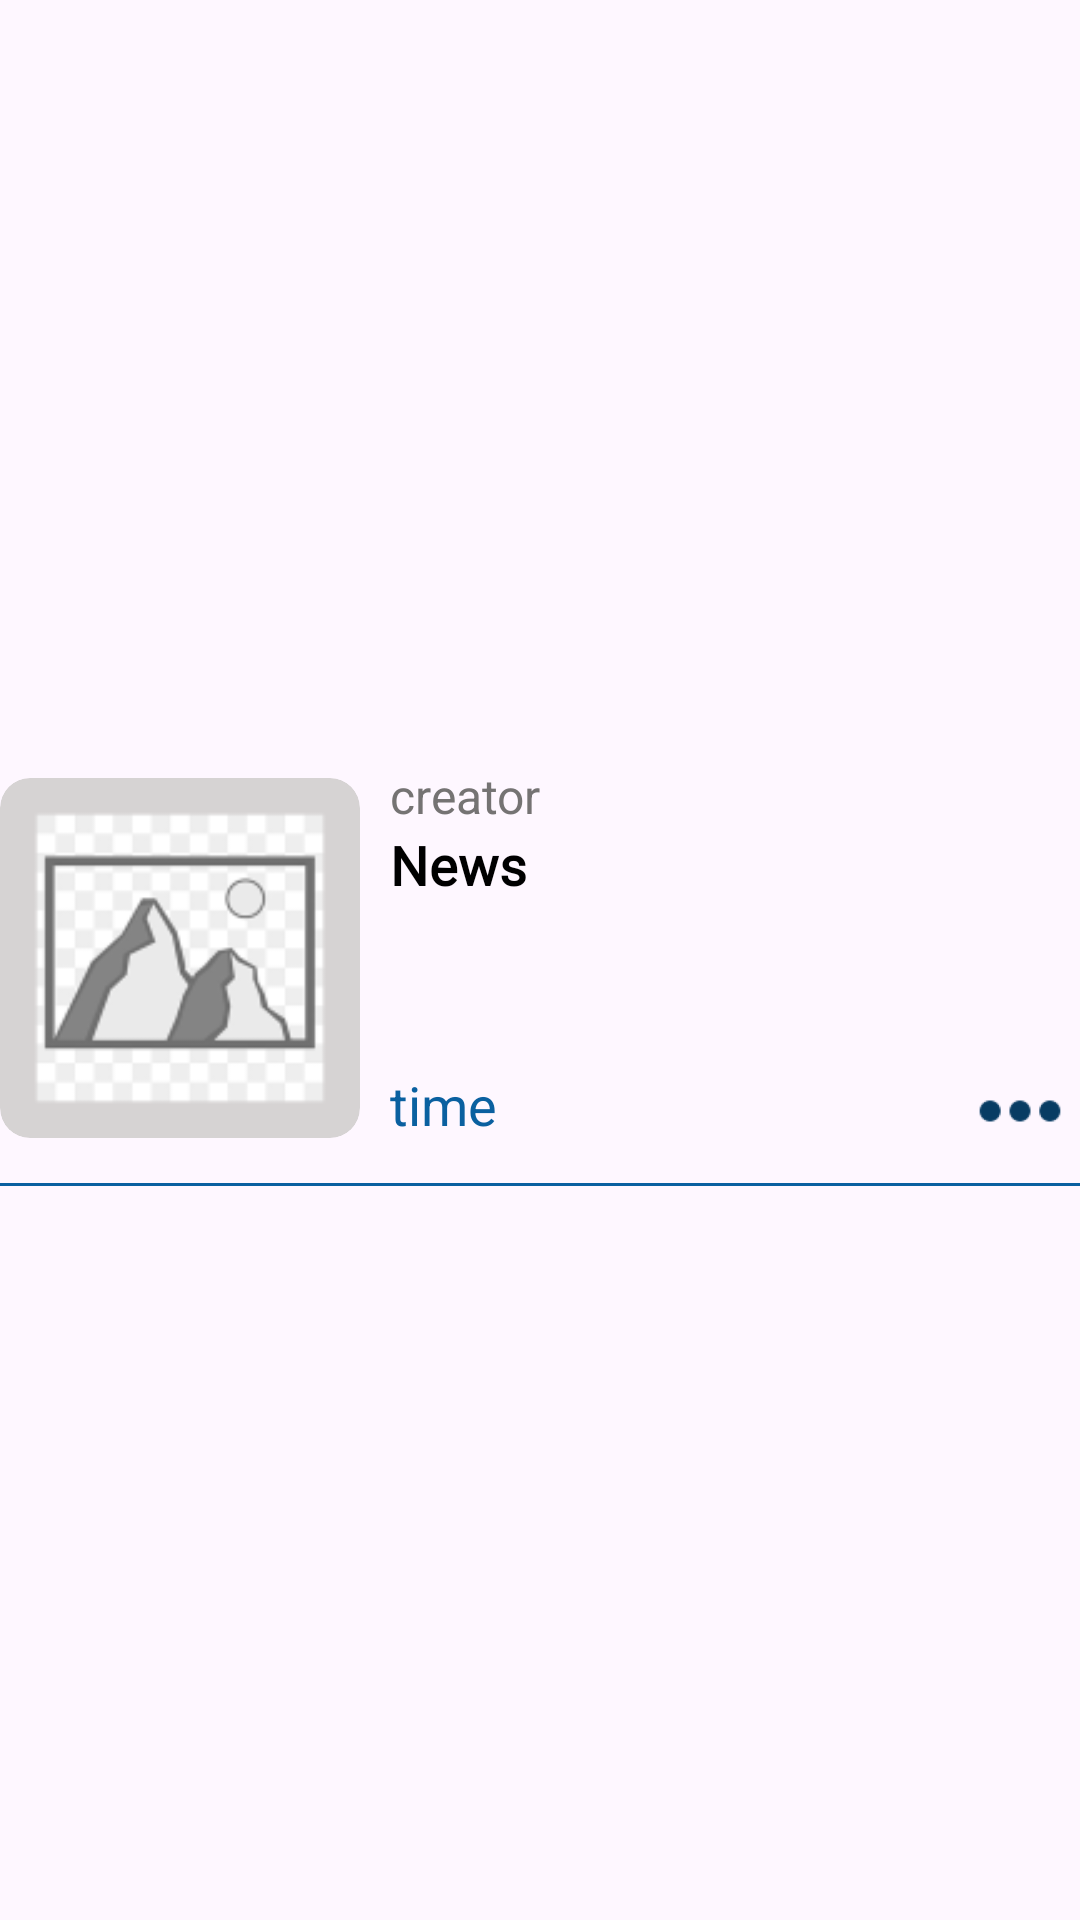

Icons on this 1080*1920 Android screen, each with its box as [left=x1, top=y1, right=x2, bottom=y2]:
more: [left=979, top=1100, right=1061, bottom=1122]
